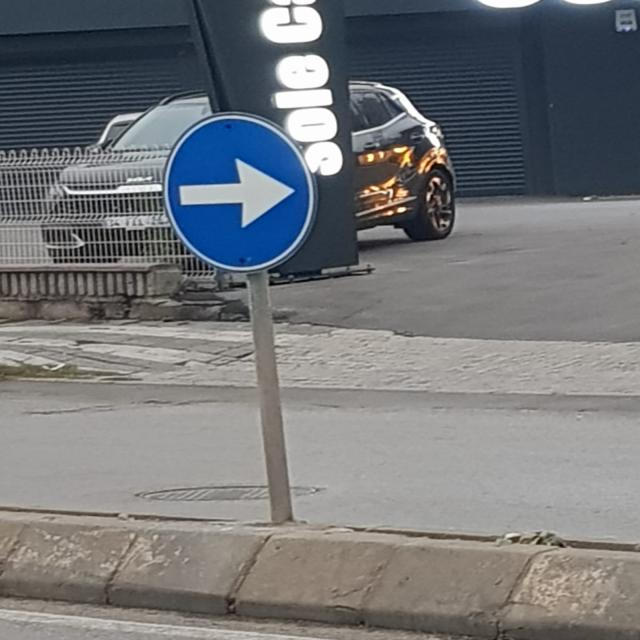Turn Right: (164, 114, 316, 274)
